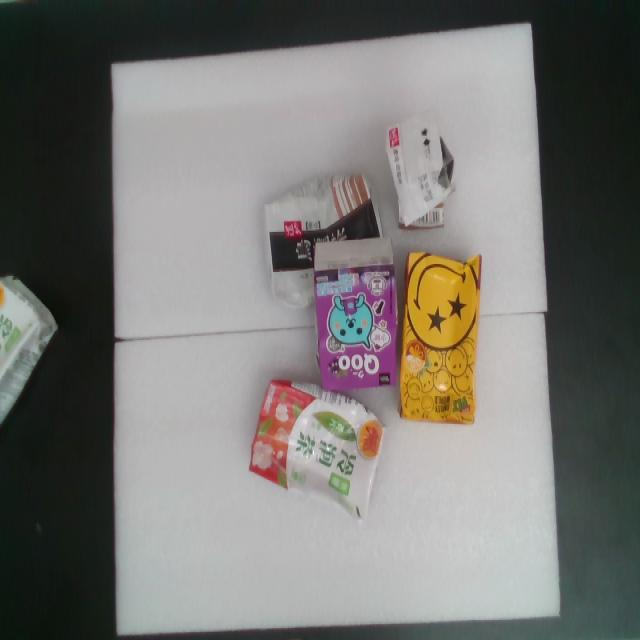juicebox: (215, 349, 420, 536), (239, 155, 413, 315), (387, 242, 492, 441), (304, 229, 403, 401), (376, 110, 471, 245)
